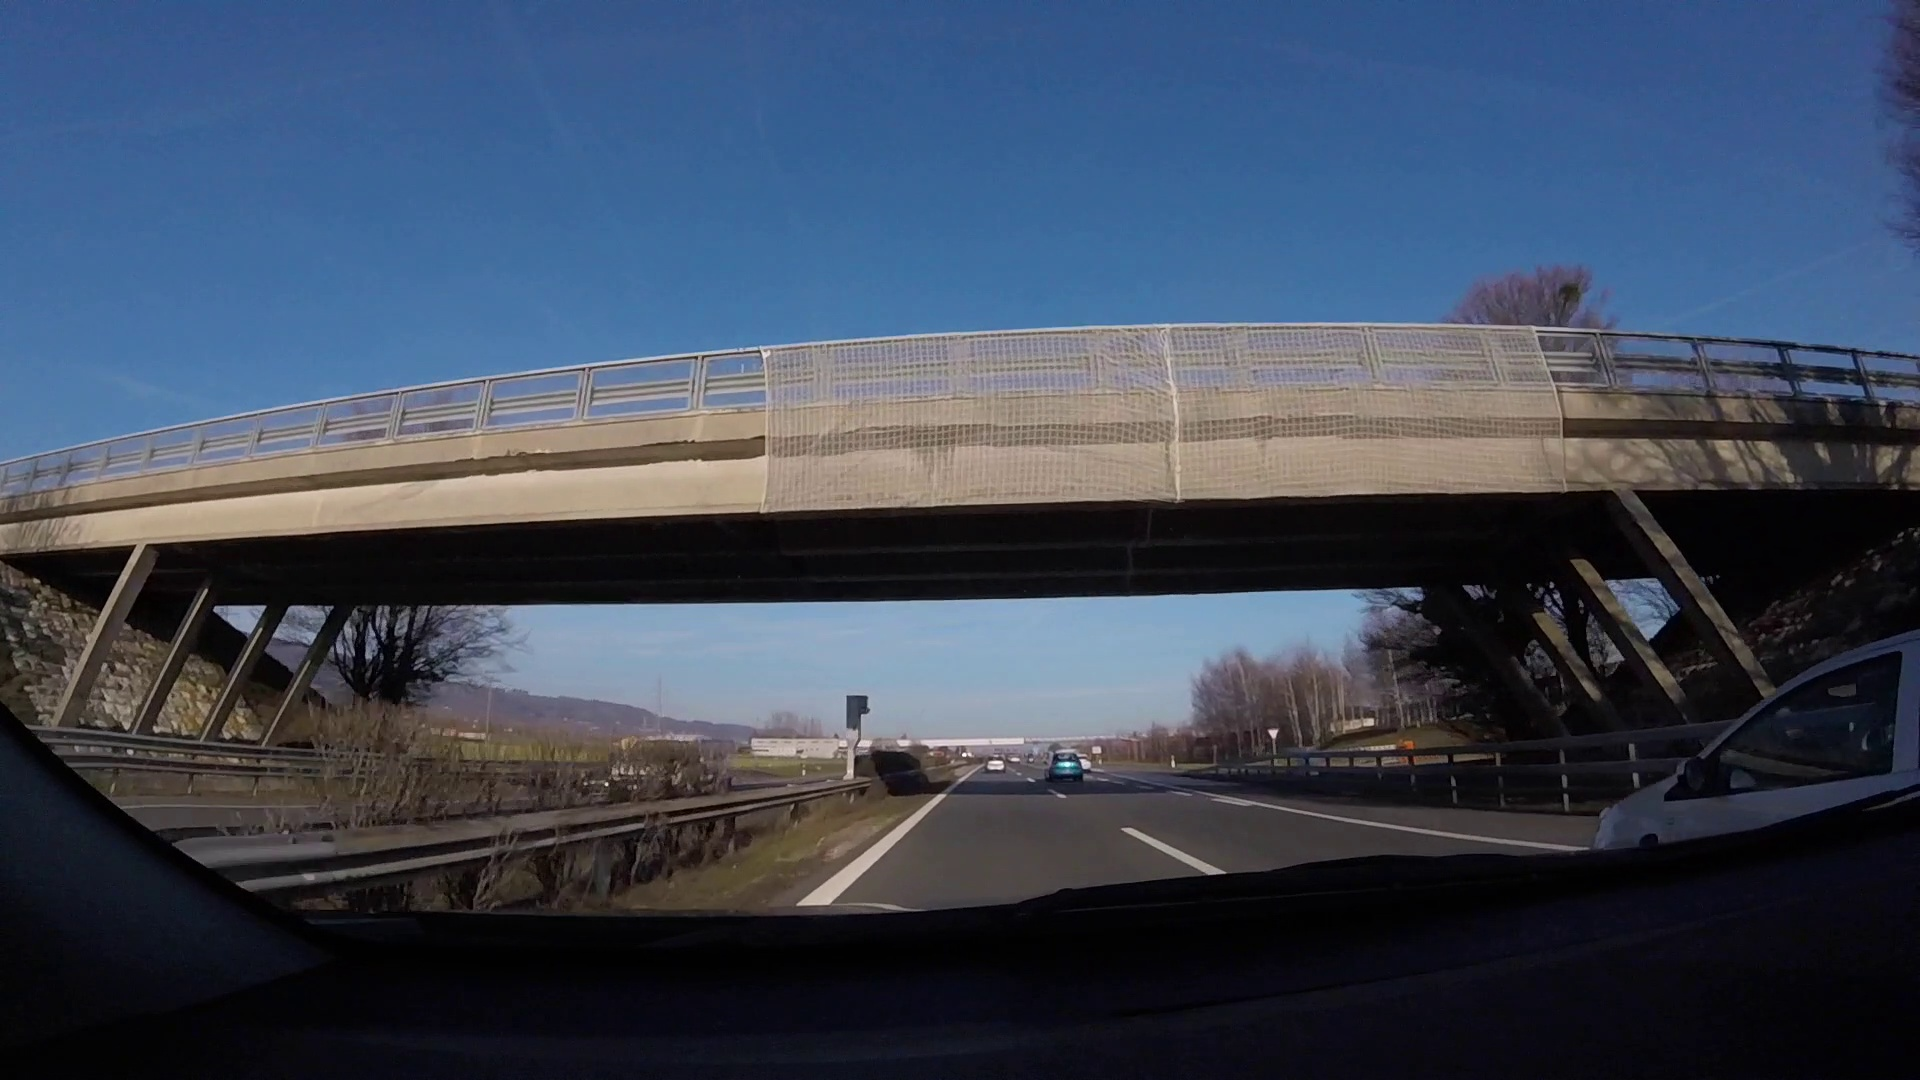radar: (845, 694, 872, 781)
